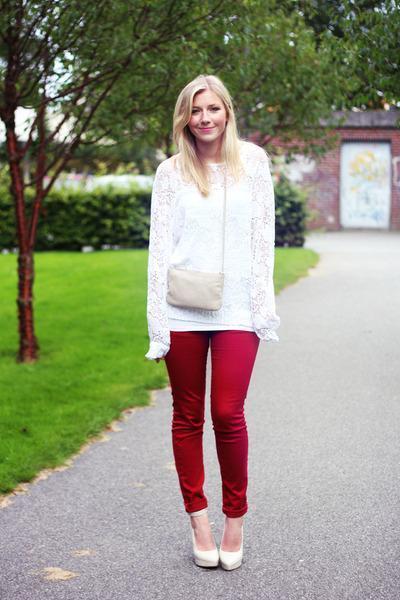bag: (166, 263, 224, 317)
pants: (163, 330, 259, 517)
shirt: (145, 140, 283, 359)
shoe: (194, 540, 244, 571)
